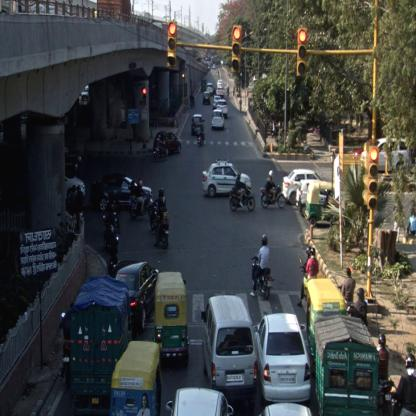car: (199, 294, 258, 393), (254, 312, 312, 402), (112, 262, 160, 330), (91, 170, 153, 212), (162, 386, 235, 416), (202, 160, 252, 196), (282, 170, 324, 202), (153, 130, 181, 158), (190, 112, 204, 136), (210, 109, 224, 131), (216, 100, 228, 118), (202, 92, 210, 104), (217, 78, 223, 90)
motorcycle: (248, 233, 274, 298), (376, 330, 394, 416), (296, 247, 318, 308), (228, 171, 254, 213), (260, 170, 286, 210), (150, 186, 167, 233), (156, 197, 170, 247), (197, 124, 204, 146)
truck: (68, 274, 132, 412), (314, 316, 378, 416)
